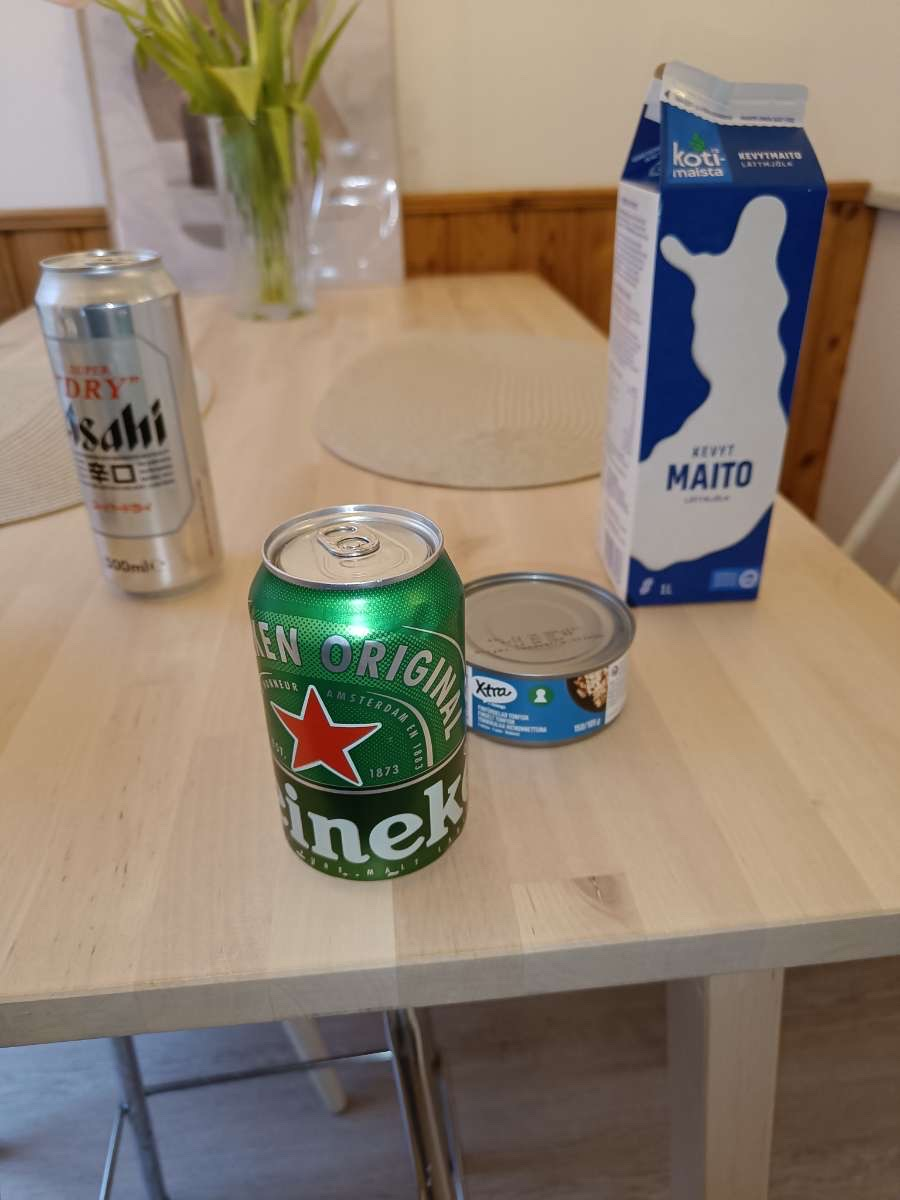Dryckeskartong: (598, 47, 831, 613)
Konservburk: (454, 560, 649, 749)
Pantburk: (236, 498, 476, 888), (15, 241, 231, 613)
